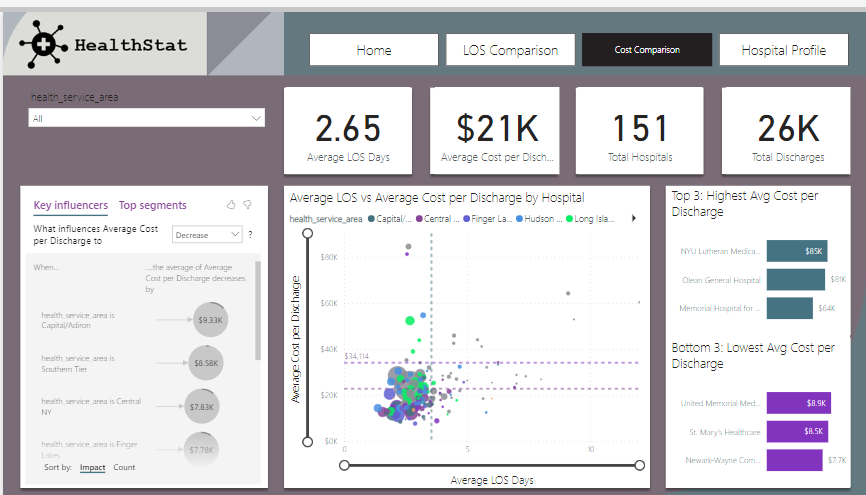

What the dashboard file says about the page in this screenshot:
{"tool":"powerbi","page":{"name":"Cost Comparison","canvas":[1280,720],"ordinal":2},"visuals":[{"type":"scatterChart","title":"Average LOS vs Average Cost per Discharge by Hospital","fields":{"X":["_Measures.Average LOS Days"],"Y":["_Measures.Average Cost per Discharge"],"Category":["hospital_discharges.facility_name"],"Size":["_Measures.Total Discharges"],"Series":["hospital_discharges.health_service_area"]},"box":[418.5,260.7,533.8,441.9],"z":0},{"type":"slicer","fields":{"Values":["hospital_discharges.health_service_area"]},"box":[27.4,109.8,369.1,130.4],"z":1000},{"type":"keyDriversVisual","fields":{"ExplainBy":["hospital_discharges.apr_risk_of_mortality","hospital_discharges.apr_severity_of_illness_description","hospital_discharges.ccs_diagnosis_description","hospital_discharges.patient_disposition","hospital_discharges.gender","hospital_discharges.Age Bins","surgical_program_size_summary.Surgical Program Size","hospital_discharges.health_service_area"],"Target":["_Measures.Average Cost per Discharge"]},"box":[27.7,261.4,357.7,442.4],"z":2000},{"type":"clusteredBarChart","title":"Top 3: Highest Avg Cost per Discharge","fields":{"Category":["hospital_discharges.facility_name"],"Y":["_Measures.Average Cost per Discharge"]},"box":[982.7,257,270.1,220.5],"z":3000},{"type":"clusteredBarChart","title":"Bottom 3: Lowest Avg Cost per Discharge","fields":{"Category":["hospital_discharges.facility_name"],"Y":["_Measures.Average Cost per Discharge"]},"box":[982.7,481.9,270.1,220.5],"z":4000},{"type":"card","fields":{"Values":["_Measures.Average LOS Days"]},"box":[419.1,111,184,129],"z":5000},{"type":"card","fields":{"Values":["_Measures.Average Cost per Discharge"]},"box":[638.1,111,184,129],"z":6000},{"type":"card","fields":{"Values":["_Measures.Total Hospitals"]},"box":[849.8,111,184,129],"z":7000},{"type":"card","fields":{"Values":["_Measures.Total Discharges"]},"box":[1068.9,111,184,129],"z":8000},{"type":"pageNavigator","box":[452.1,31.4,800,49.9],"z":9000}]}

Visuals, with their boxes in screenshot pixels (x1, y1, x2, y2), scaled from the page's 1280x720 canvas onto the 866x495 screenshot:
"Average LOS vs Average Cost per Discharge by Hospital" scatterChart: 283:179:644:483
slicer - hospital_discharges.health_service_area: 19:75:268:165
keyDriversVisual - hospital_discharges.apr_risk_of_mortality x hospital_discharges.apr_severity_of_illness_description: 19:180:261:484
"Top 3: Highest Avg Cost per Discharge" clusteredBarChart: 665:177:848:328
"Bottom 3: Lowest Avg Cost per Discharge" clusteredBarChart: 665:331:848:483
card - _Measures.Average LOS Days: 284:76:408:165
card - _Measures.Average Cost per Discharge: 432:76:556:165
card - _Measures.Total Hospitals: 575:76:699:165
card - _Measures.Total Discharges: 723:76:848:165
pageNavigator: 306:22:847:56
